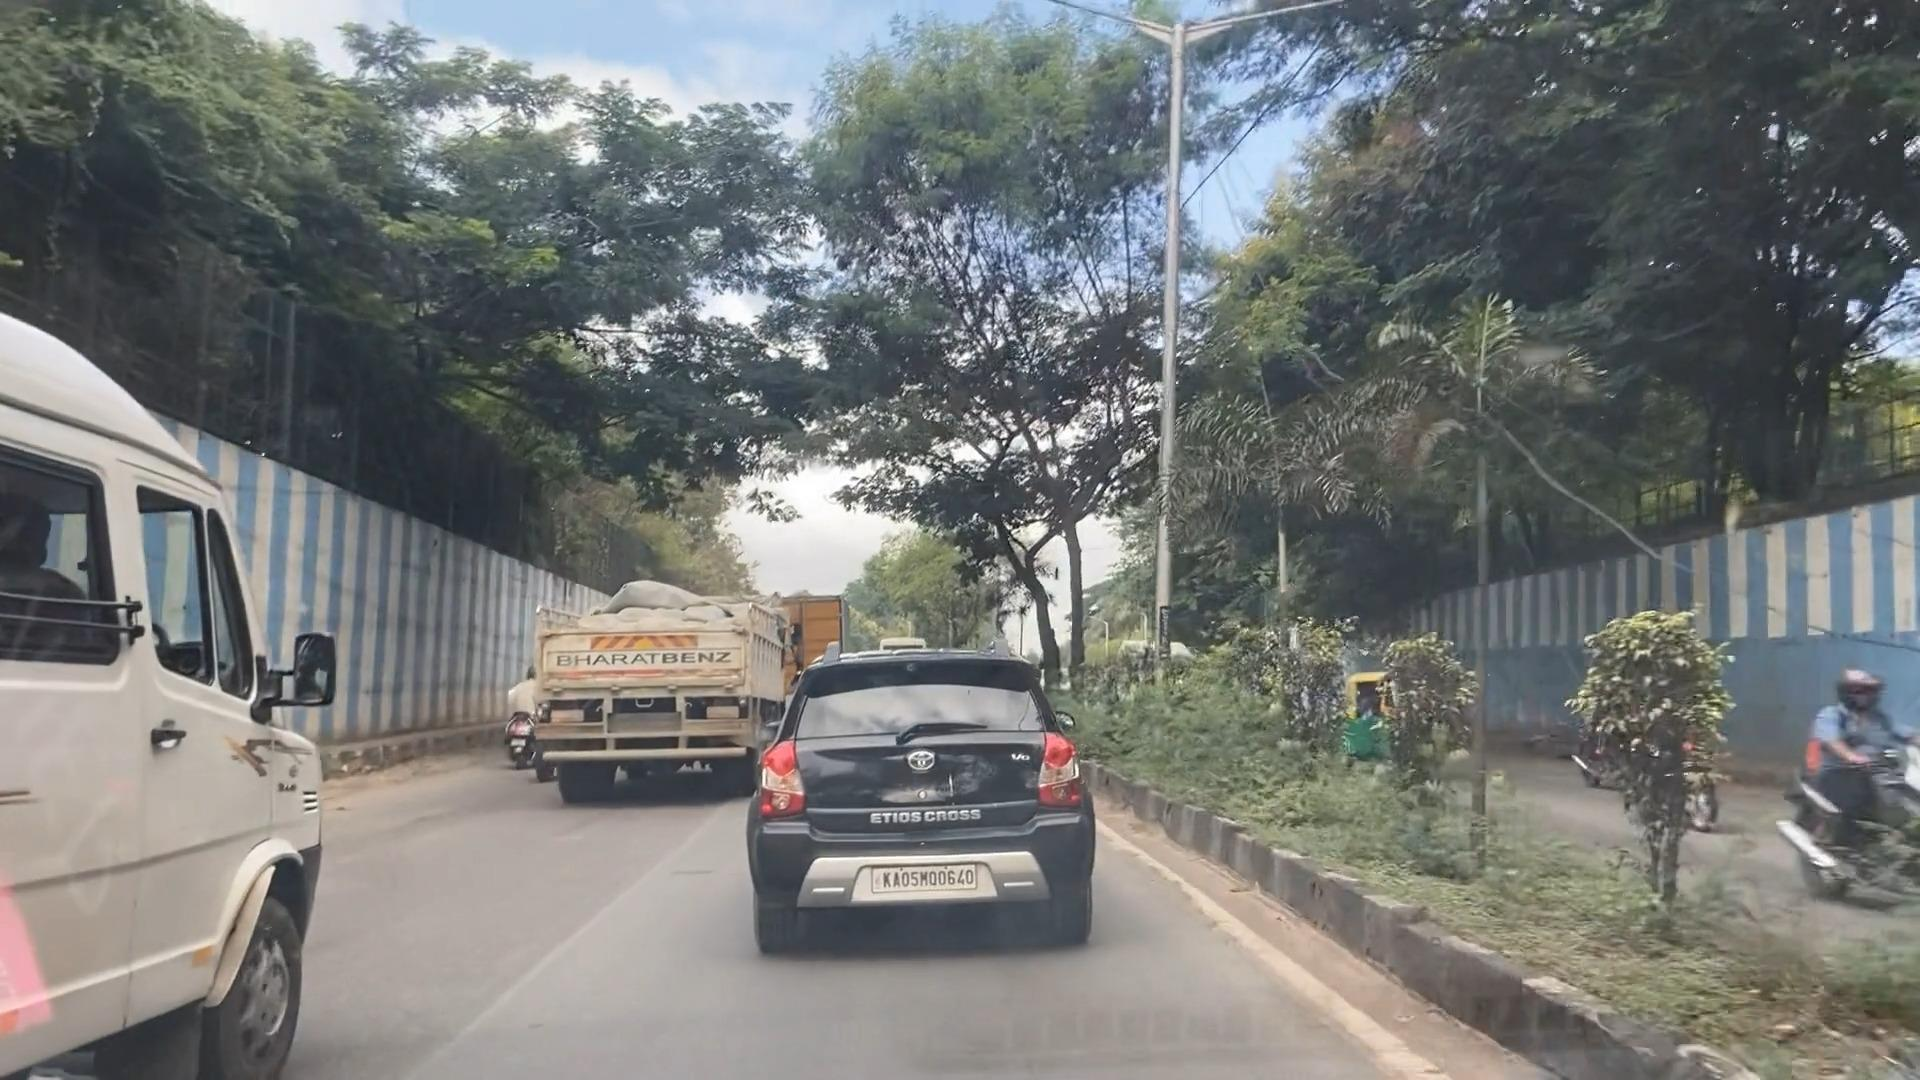HMV: (0, 309, 462, 1080), (538, 524, 796, 814)
LMV: (707, 608, 1130, 992)
